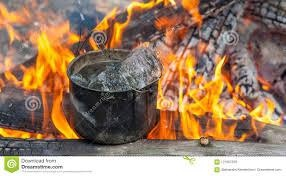fire: (137, 1, 280, 144), (0, 0, 88, 140), (91, 0, 202, 47)
